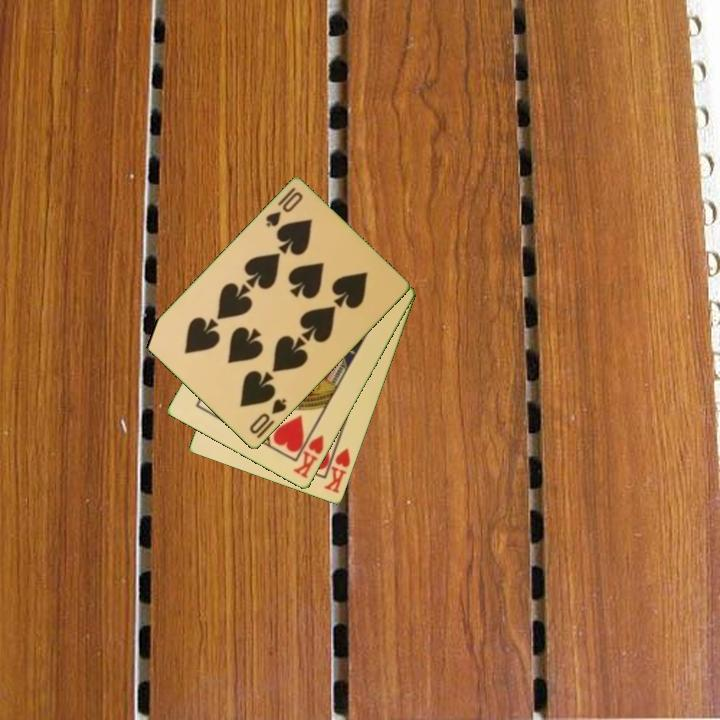10s: (262, 184, 306, 230), (246, 395, 290, 437)
Kh: (290, 425, 327, 482), (321, 439, 353, 497)
